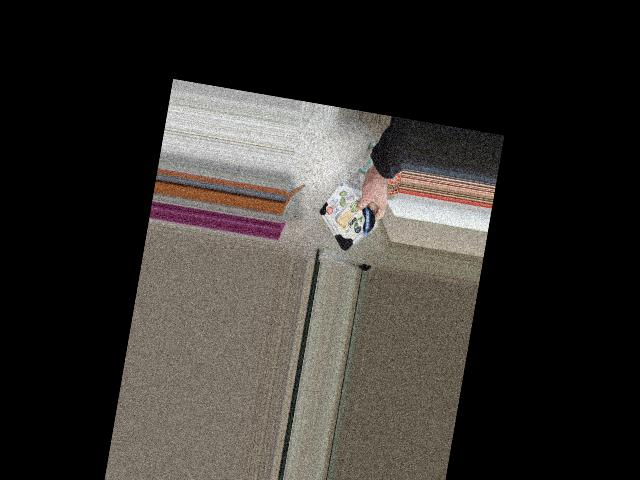cheese: (311, 188, 395, 248)
